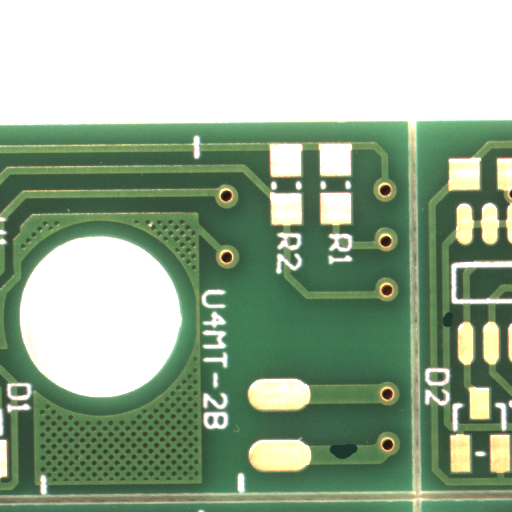Mouse_bite: (344, 451, 375, 466), (447, 319, 459, 333)
